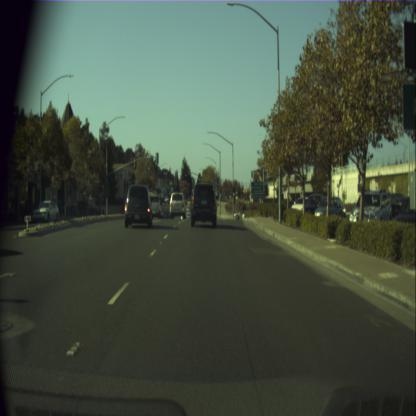Green: (232, 187, 234, 196), (184, 168, 186, 177), (219, 188, 221, 196), (198, 173, 200, 181)
Red: (240, 186, 242, 192)
